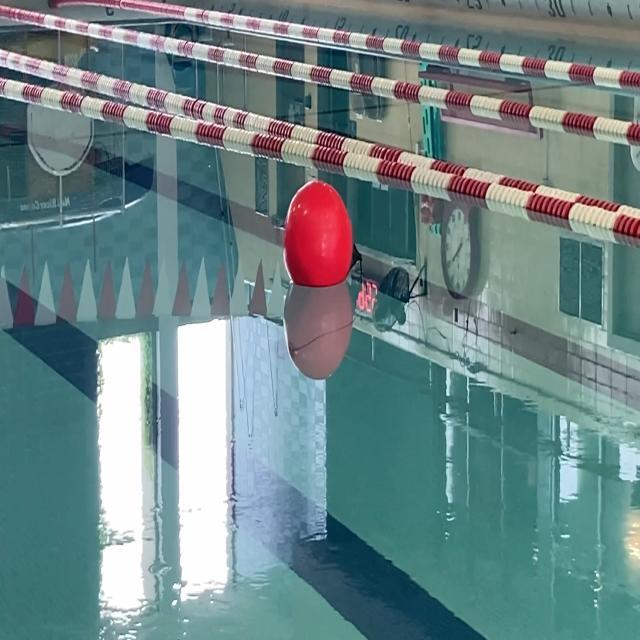buoy: (284, 180, 364, 286)
